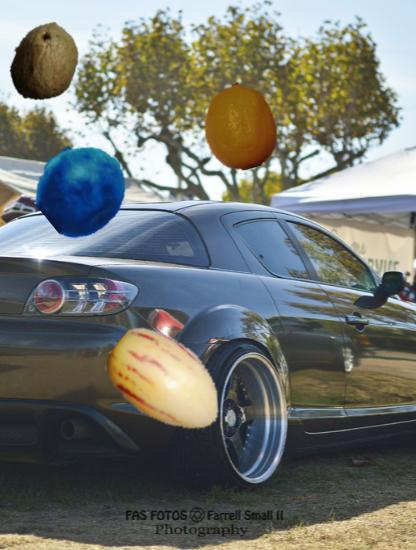Huckleberry: (36, 144, 128, 236)
Lemon: (196, 83, 283, 170)
Papaya: (3, 21, 86, 104)
Pepino: (103, 319, 231, 447)
